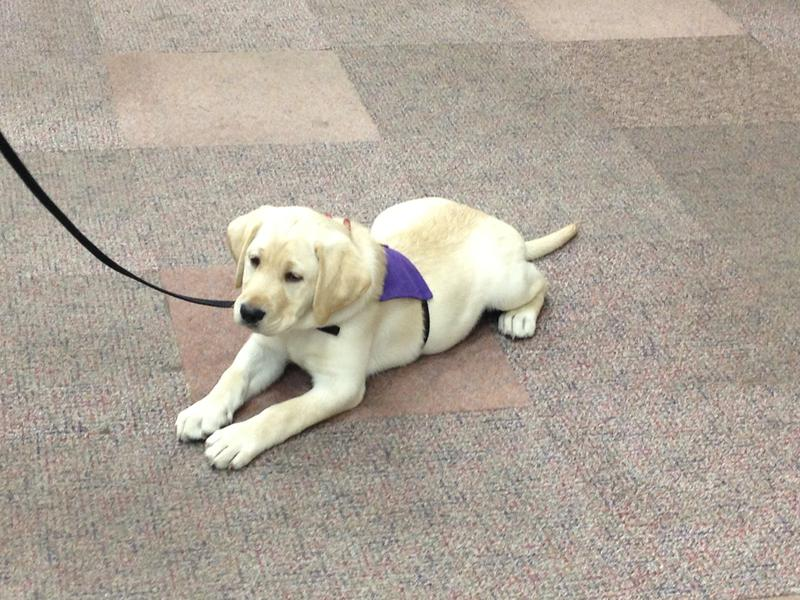dog_down: (169, 187, 582, 480)
